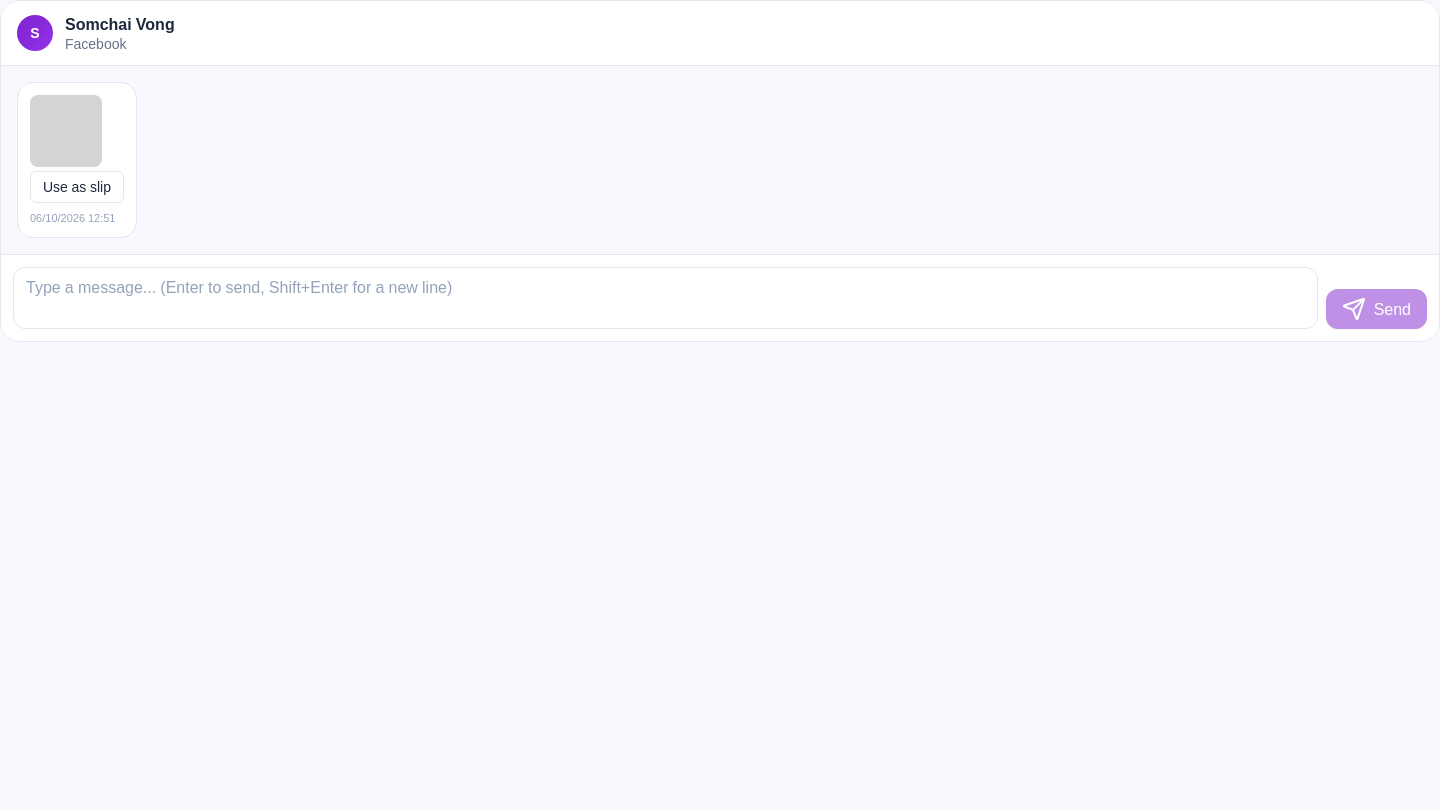
Test: ThreadPane: ໃຊ້ເປັນສະລິບ › focus ກັບໄປປຸ່ມເດີມ ເຖິງ id ຂອງຂໍ້ຄວາມມີເຄື່ອງໝາຍພິເສດ (" ແລະ ]) ໂດຍບໍ່ຕົກເປັນ selector error
This screenshot has width=1440, height=810.
Click the button "Use as slip" at (77, 187), box [30,171,124,203]
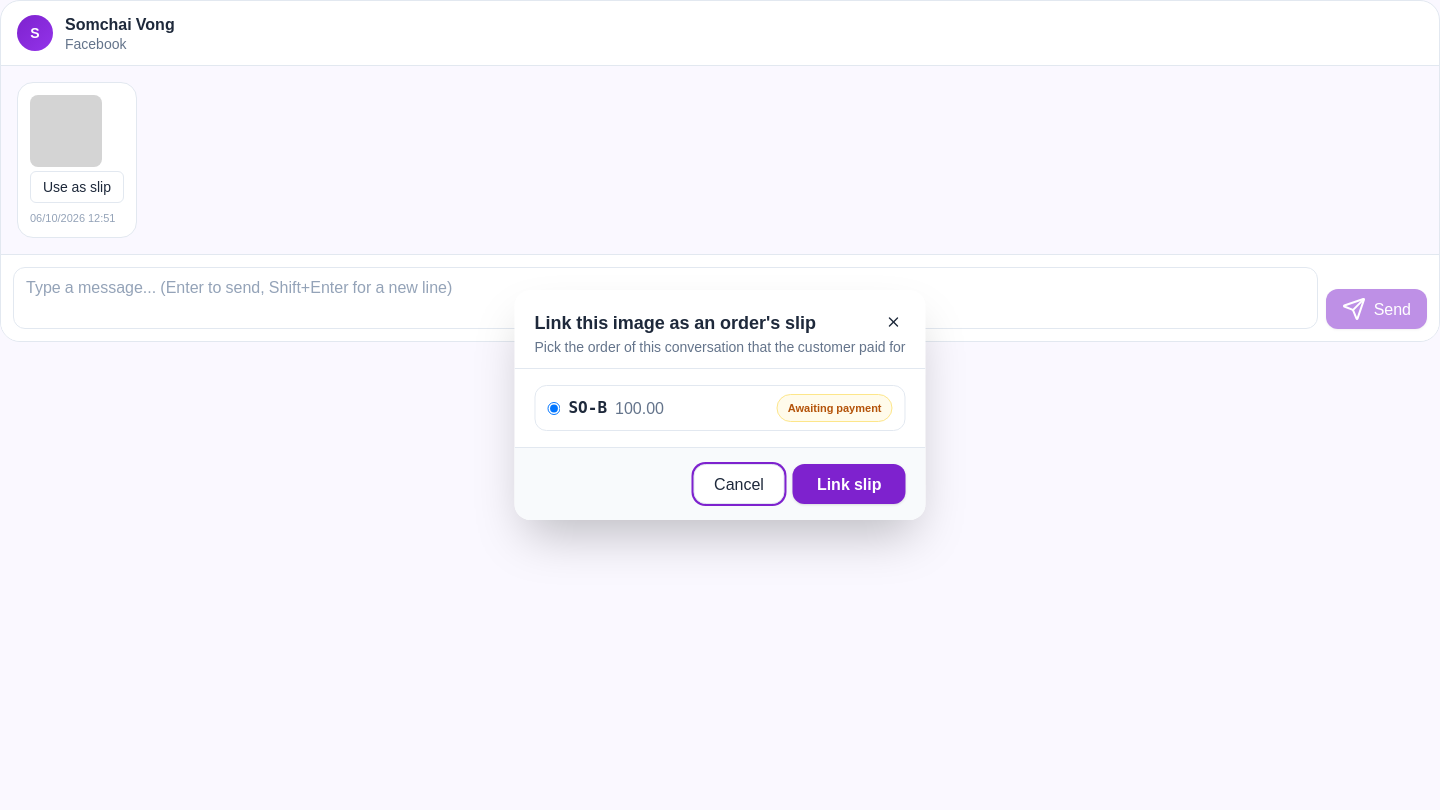
Expected: the dialog is shown, [514,290,926,520]
Click the button "Cancel" at (739, 484), box [693,464,785,504]
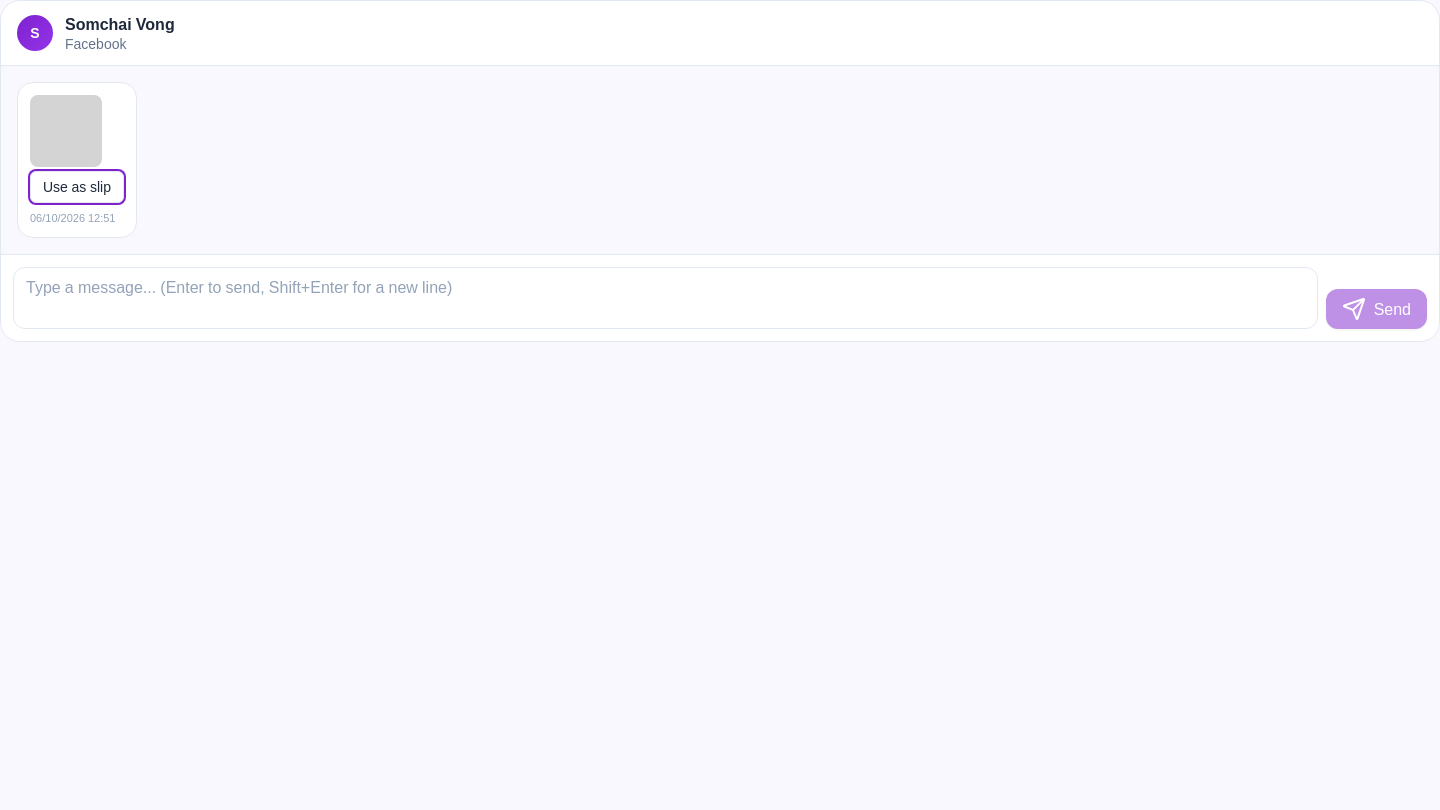
Expected: the dialog is gone
